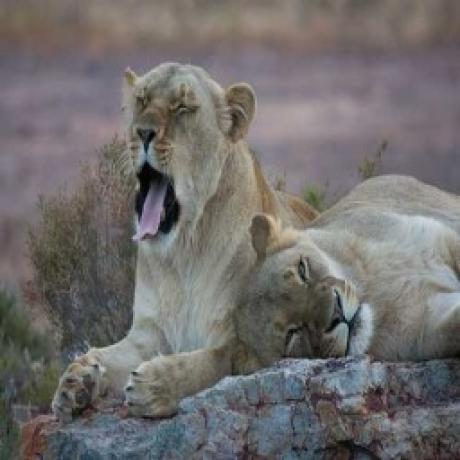Lion: (50, 59, 320, 420), (210, 169, 460, 375)
